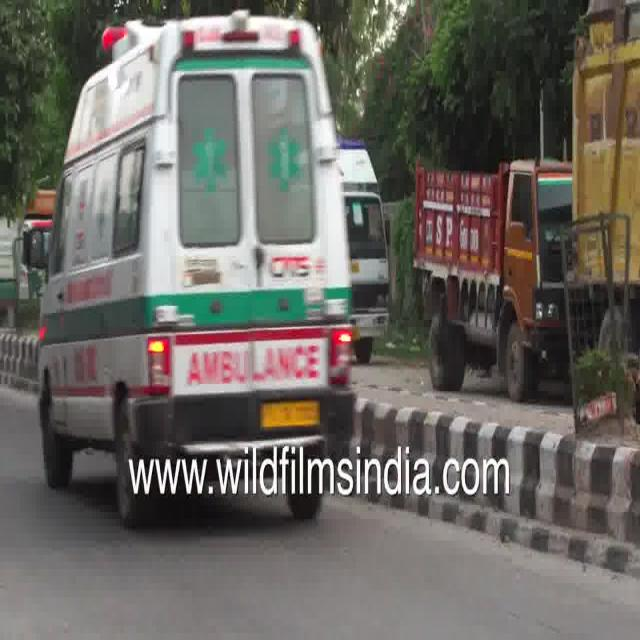ambulance: (21, 19, 380, 527), (171, 317, 359, 440)
